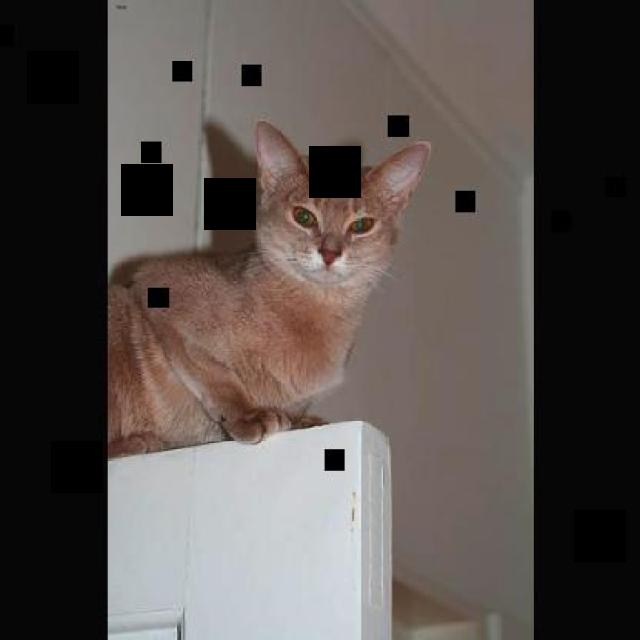unauthorized: (106, 119, 431, 458)
